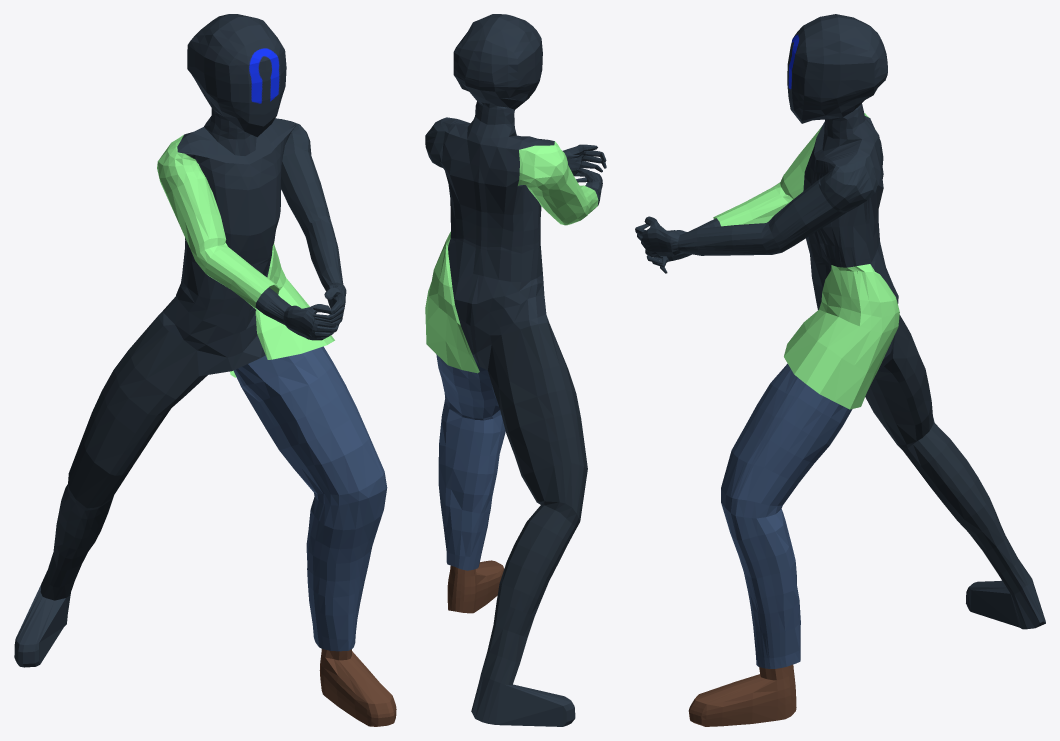
File: Mar_WR_000013.obj
3 views of the same model, side by side, from view 1: azimuth 30°, elevation 25°; view 2: azimuth 150°, elevation 25°; view 3: azimuth 270°, elevation 25° (orthographic). The views are drawn at different scales.
Parts seen in each view (by area): view 1: Cube.000_Cube.001; view 2: Cube.000_Cube.001; view 3: Cube.000_Cube.001.
Boxes of the visible parts, <box> form: Cube.000_Cube.001: <box>14,14,396,726</box>; Cube.000_Cube.001: <box>425,14,606,726</box>; Cube.000_Cube.001: <box>635,14,1045,726</box>.
Bounding box in the file's own units: 1.44 × 3.72 × 2.08.
